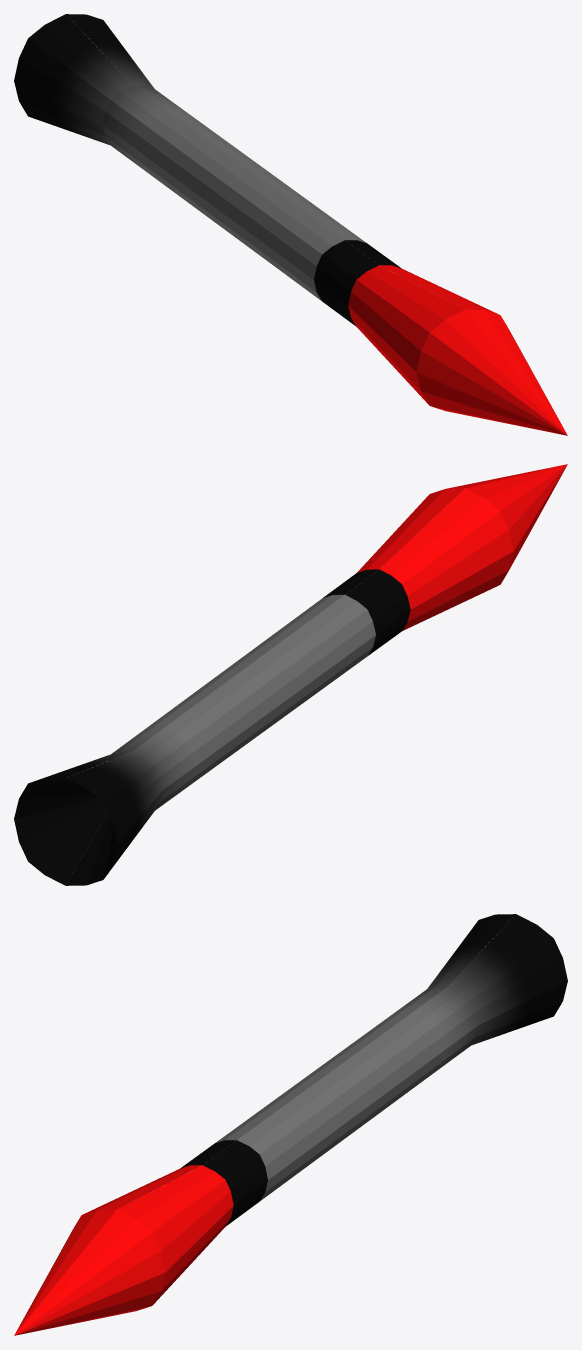
Rendered from Micro_Missile.fbx.
3 views of the same model, one above another, from view 1: azimuth 30°, elevation 25°; view 2: azimuth 150°, elevation 25°; view 3: azimuth 330°, elevation 25° (orthographic).
Visible parts, largest first — view 1: Cube; view 2: Cube; view 3: Cube.
Boxes of the visible parts, x1=… form: Cube: x1=14, y1=14, x2=567, y2=435; Cube: x1=14, y1=464, x2=567, y2=885; Cube: x1=14, y1=914, x2=567, y2=1335.
Bounding box in the file's own units: 51.02 × 51.02 × 429.
Materials: 1 (1 with a texture image).
